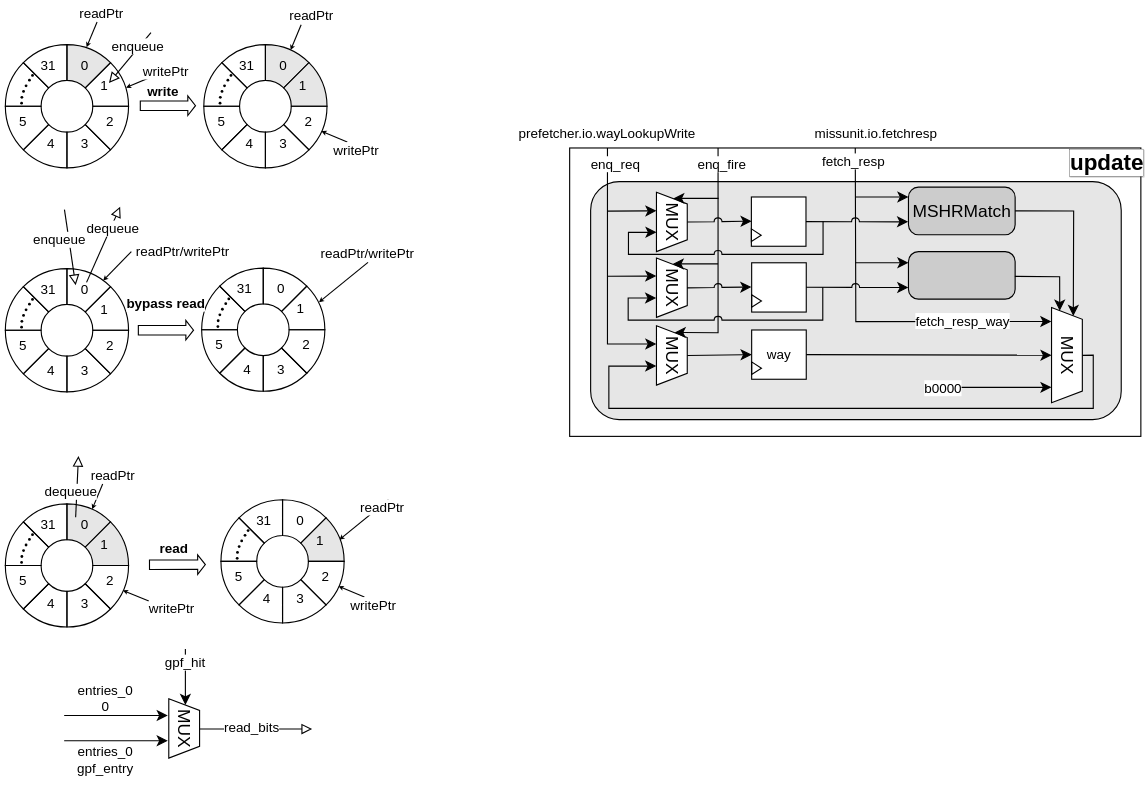
The diagram is 1148 pixels wide and 790 high, and some of its shapes have lost their labels. The box of each missing label's shape, as (x1, y1, x2, y2) in pixels:
paddr: (751, 196, 806, 247)
Position Match: (908, 251, 1016, 300)
vsetIdx: (751, 262, 807, 312)
